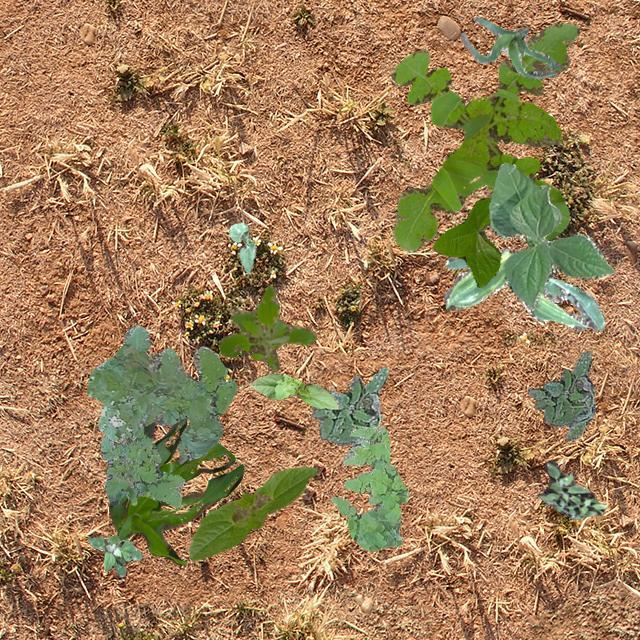crop: (108, 418, 242, 564), (488, 162, 614, 308), (442, 248, 604, 330), (188, 466, 316, 560), (430, 196, 500, 286), (460, 16, 560, 78), (248, 372, 338, 408), (228, 222, 255, 272)
weed: (390, 22, 578, 250), (86, 324, 237, 458), (330, 424, 408, 550), (218, 284, 316, 370), (310, 366, 388, 456), (100, 426, 184, 506), (526, 350, 594, 440), (538, 459, 606, 518), (86, 534, 142, 576)
